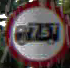Heavy Vehicles: (6, 2, 69, 67)
